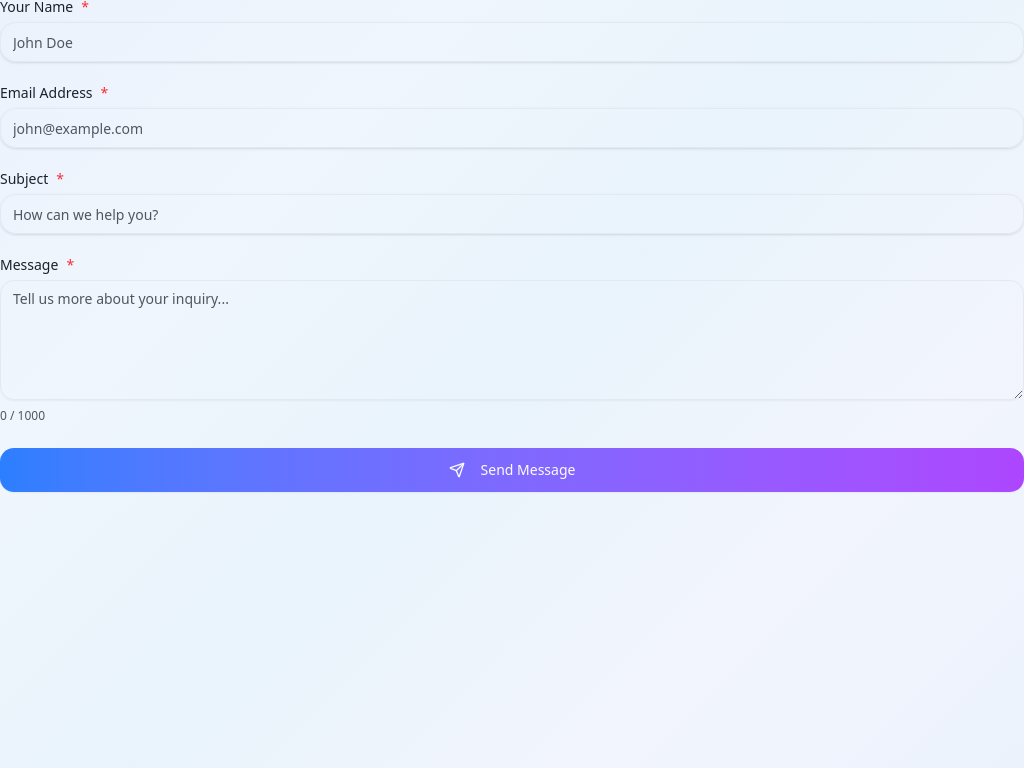
Scenario: ContactForm Component › validation › should show error when name is too short
In the field labelled "Your Name *": (512, 42) [0,22,1023,62], type "A"
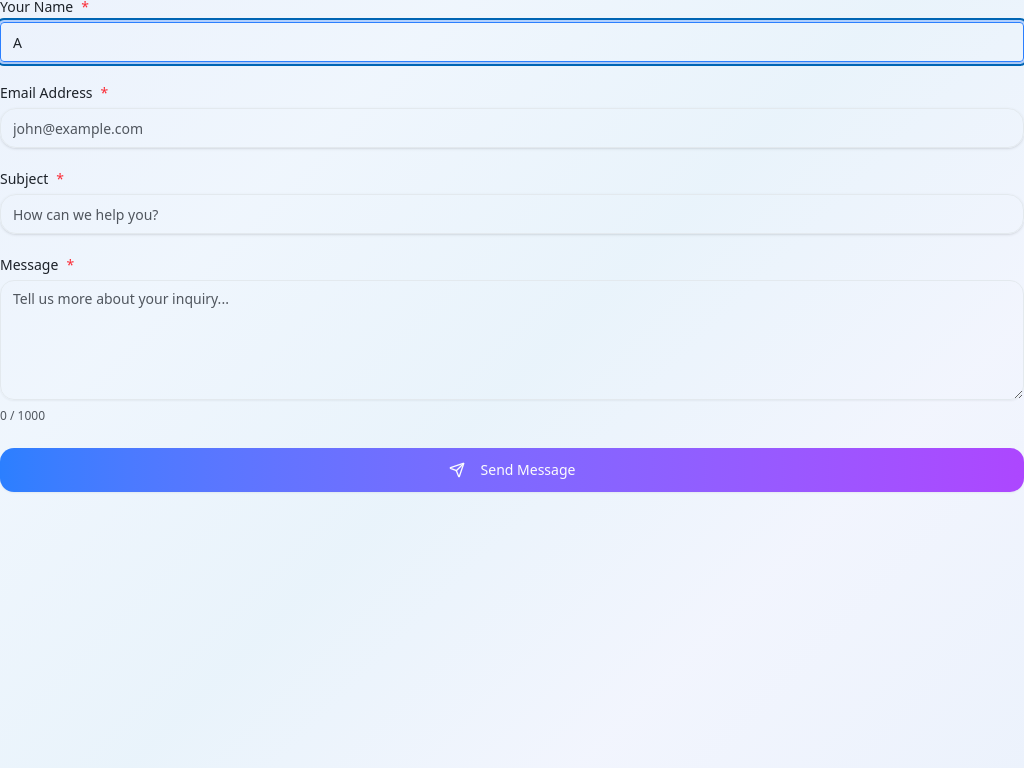
Click the button with aria-label "send contact message": (512, 470) [0,448,1023,492]
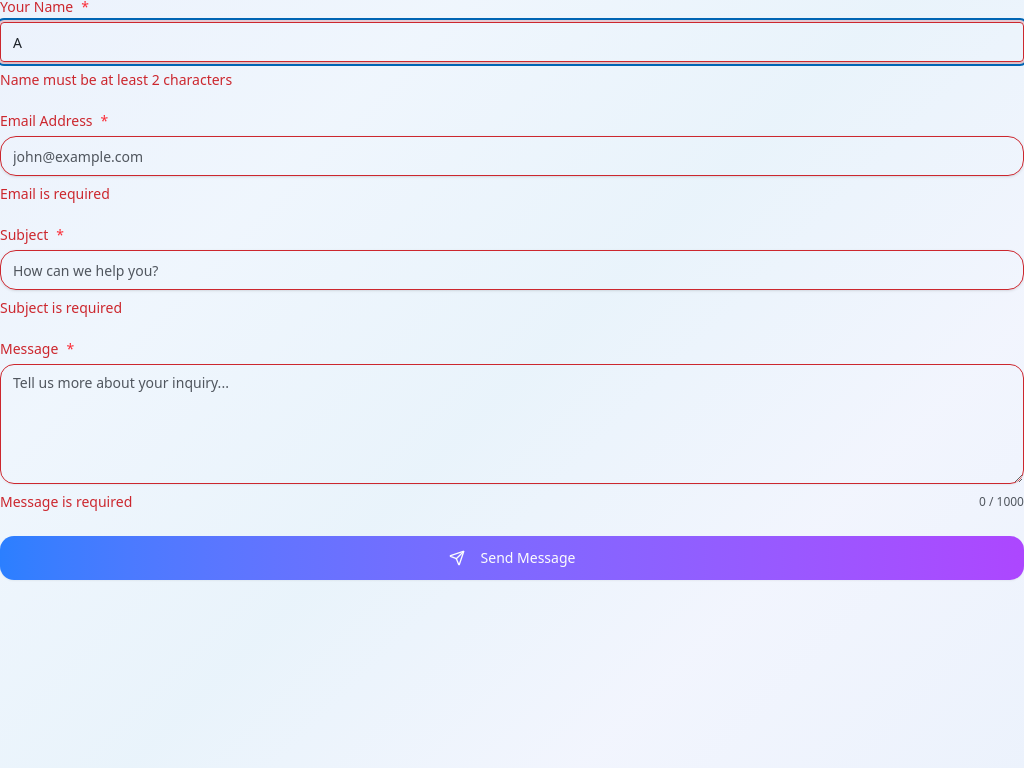
Now the text "Name must be at least 2 characters" is shown, box [0,70,232,89]
